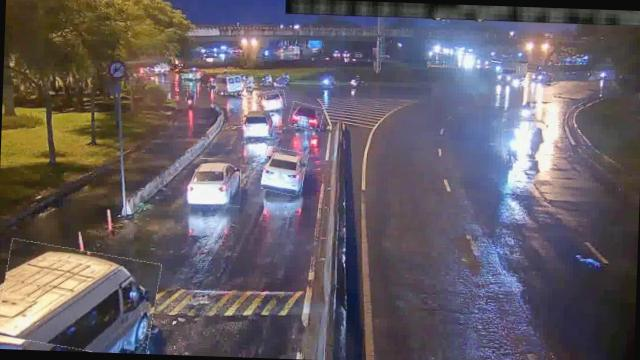Bike: (526, 122, 547, 161), (502, 128, 523, 164), (187, 90, 196, 107)
Bus: (0, 243, 159, 353), (216, 74, 247, 96)
Car: (186, 158, 242, 207), (262, 147, 307, 194), (288, 102, 324, 131), (244, 109, 276, 138), (256, 90, 286, 110)
